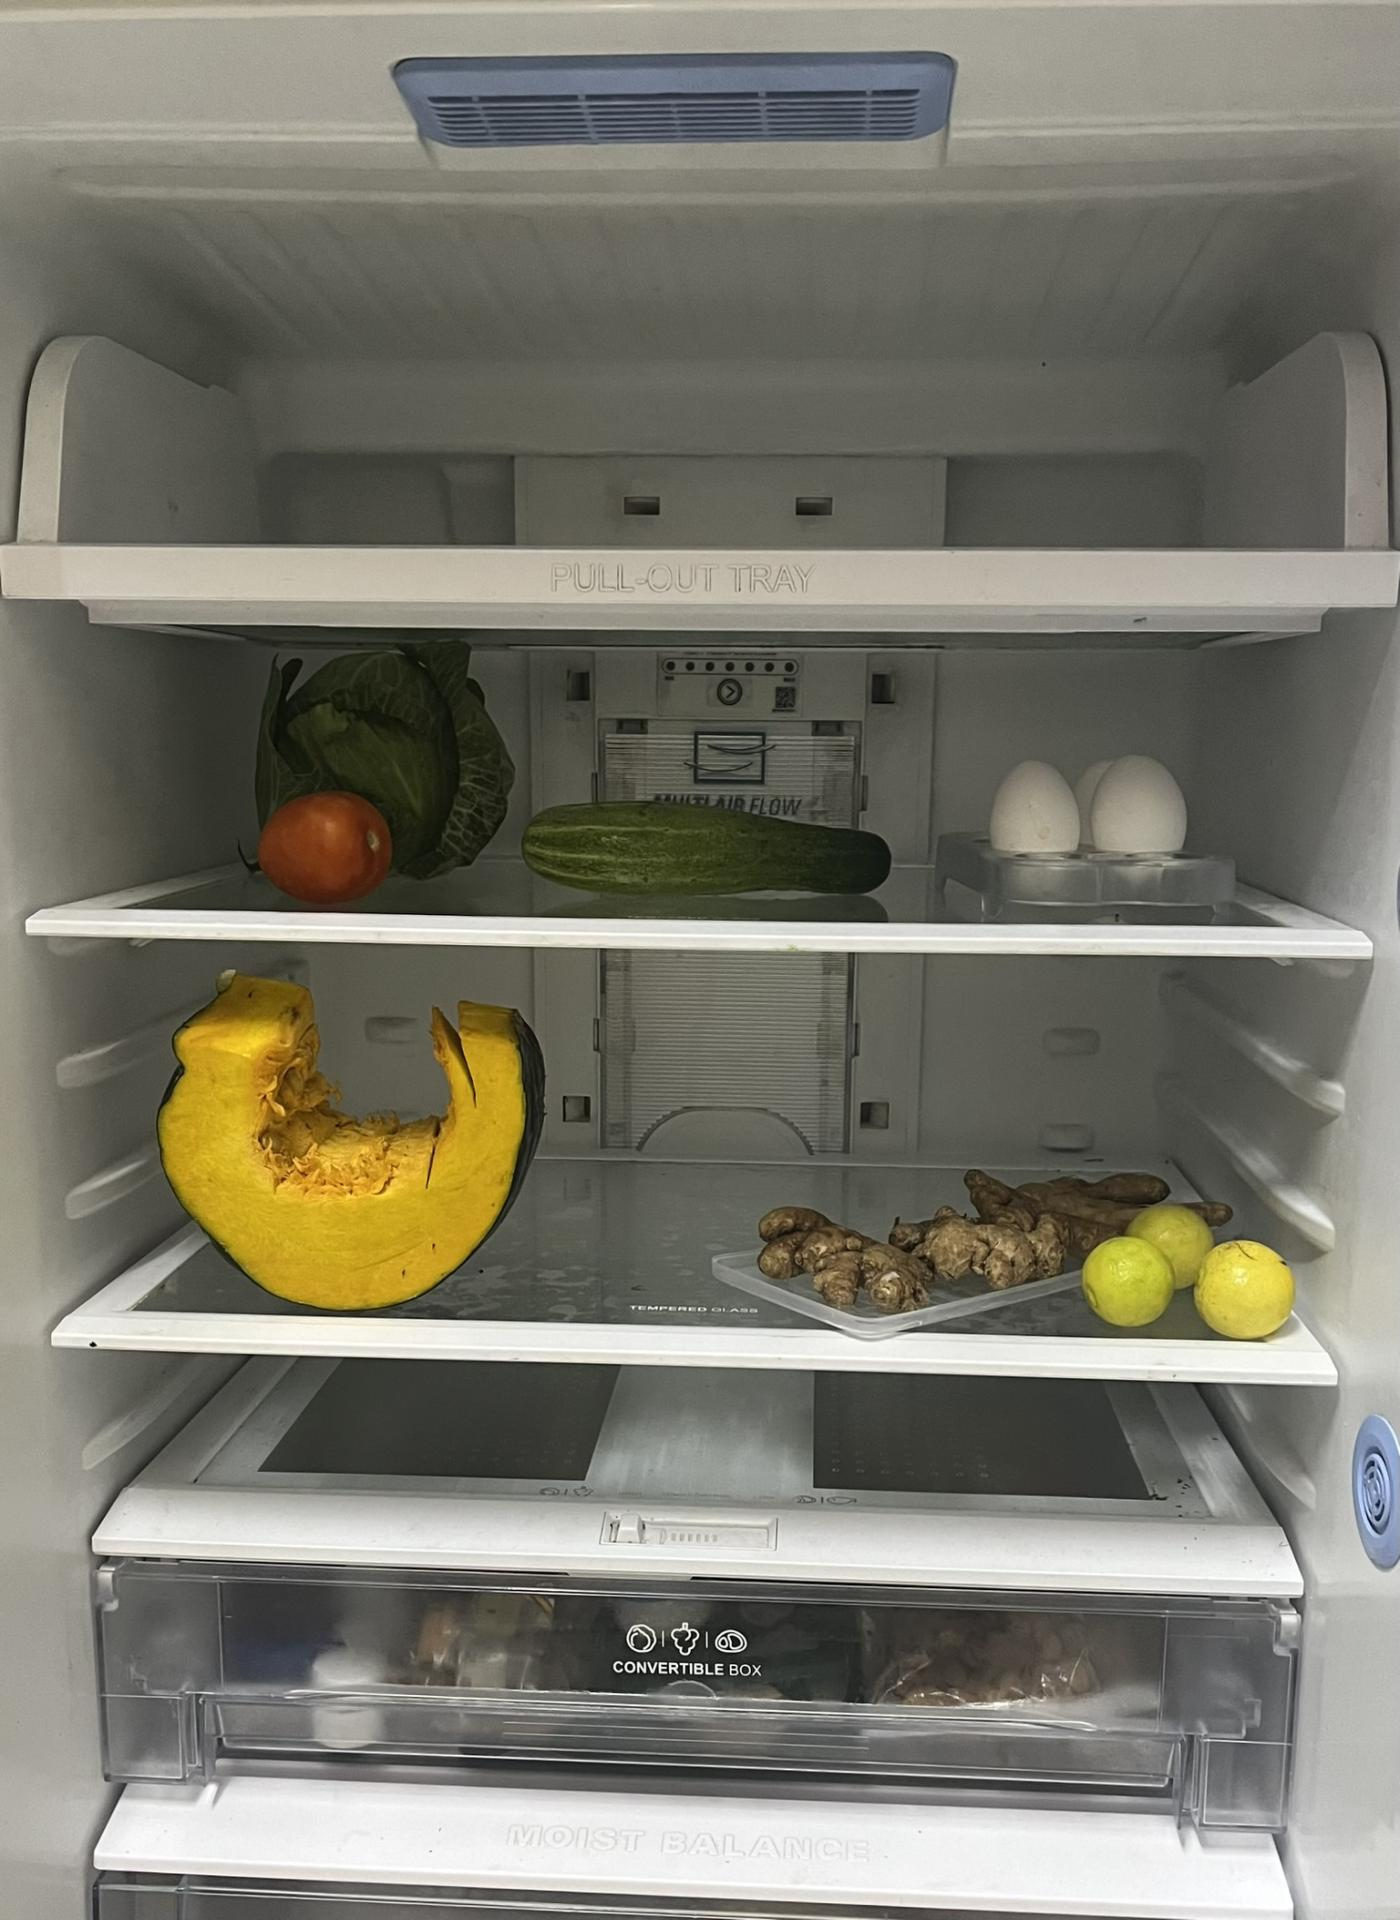cabbage: (267, 638, 519, 866)
cucumber: (529, 800, 905, 891)
egg: (987, 738, 1200, 887)
ginger: (760, 1172, 1200, 1303)
lemon: (1075, 1197, 1300, 1331)
pumpkin: (149, 987, 544, 1315)
tomato: (261, 787, 401, 903)
